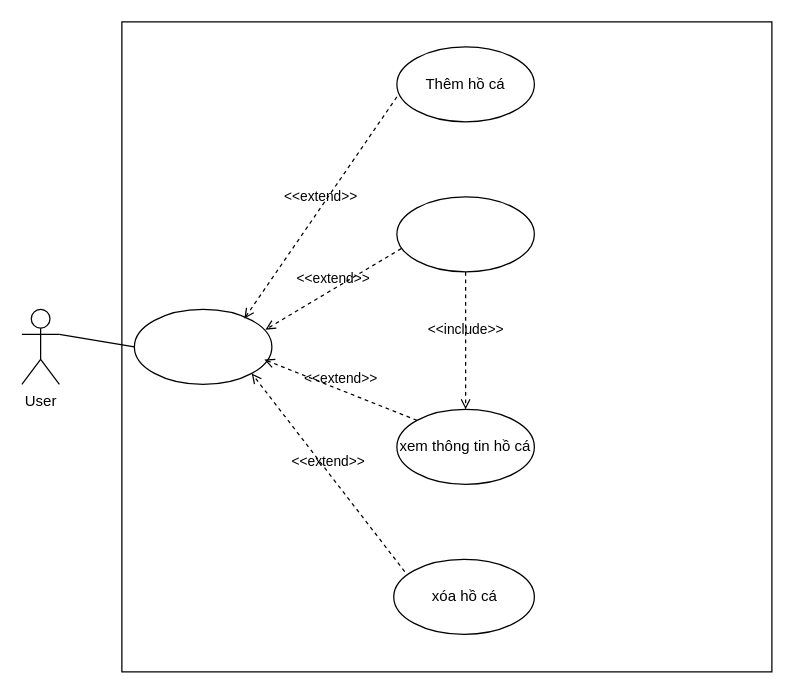
Image size: 794x694. Some labels were removed from this diagram. Each missing label, with the centre of its shape:
"cập nhật hồ cá" goes at point 465,234.
"Quản lý hồ cá koi" goes at point 202,346.
